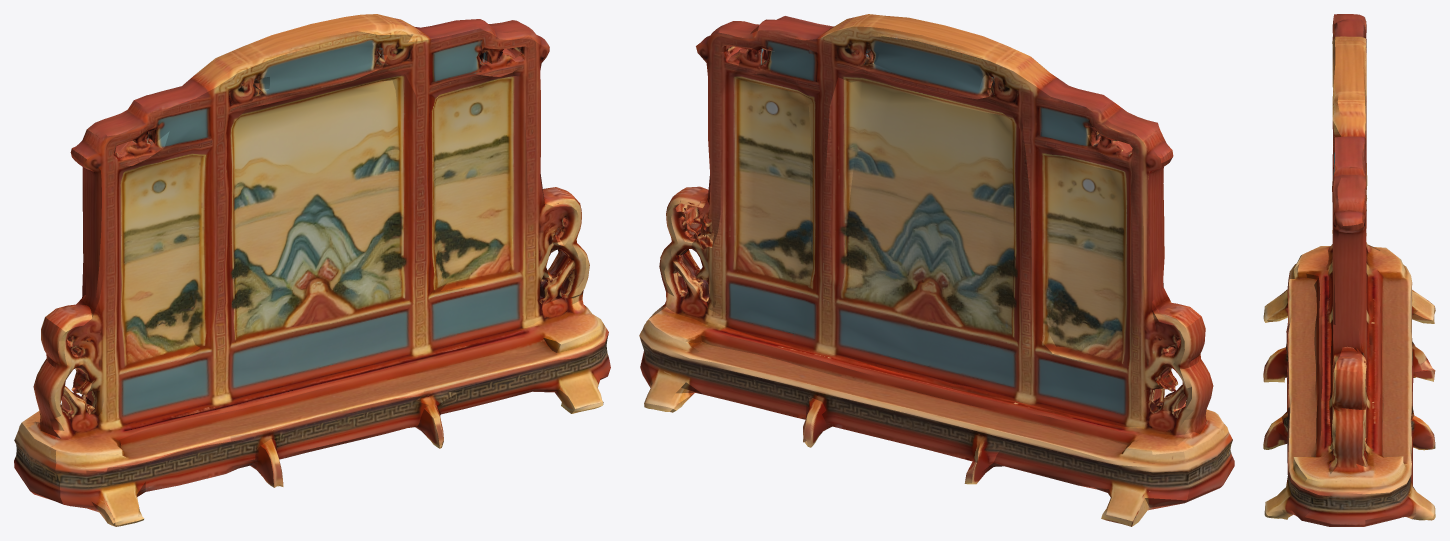
File: MDL_Environment_MiracleTavern_Screen_MeshyAITranquilLandscapeSc0123090233Texture_0468.fbx
3 renders of one model, left to right at view 1: azimuth 30°, elevation 25°; view 2: azimuth 150°, elevation 25°; view 3: azimuth 270°, elevation 25°, orthographic. The views are drawn at different scales.
Parts seen in each view (by area): view 1: Mesh0; view 2: Mesh0; view 3: Mesh0.
Part boxes in pixels (<box>): Mesh0: <box>14,14,610,526</box>; Mesh0: <box>639,14,1234,526</box>; Mesh0: <box>1263,14,1435,526</box>.
Size of the model in its own units: 192 by 129 by 57.55.
1 material, 1 textured.
